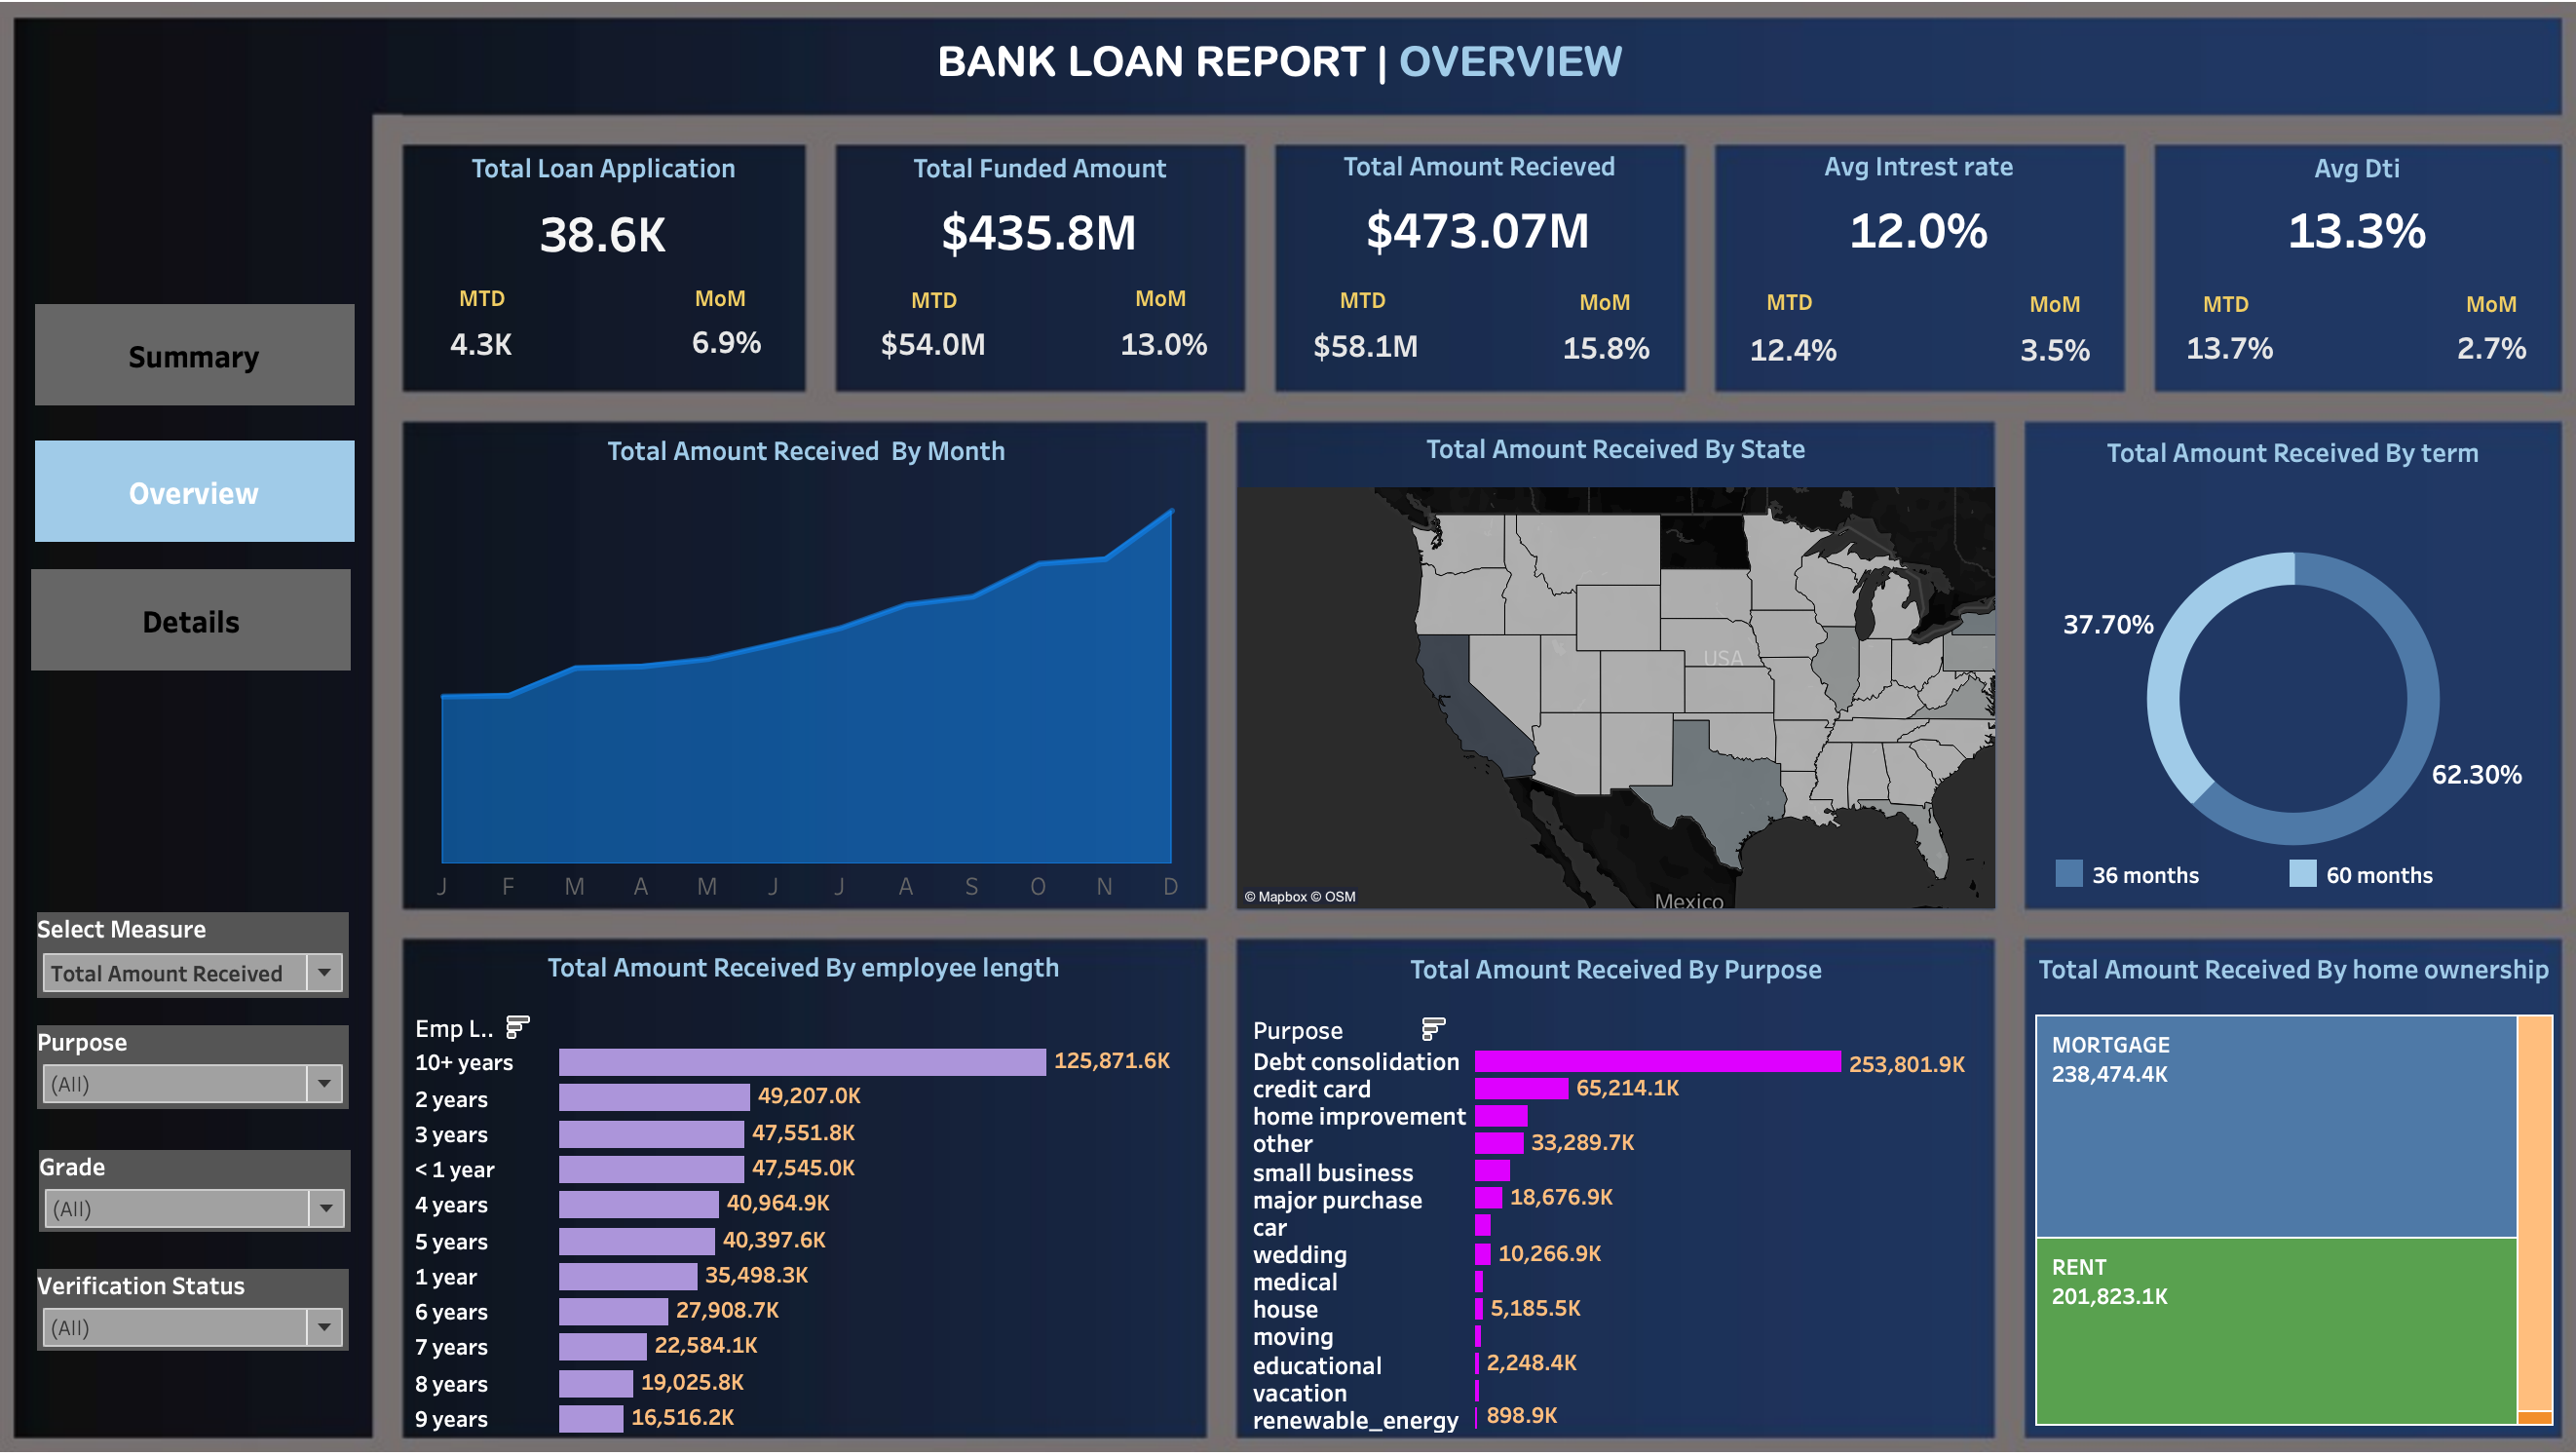

The page's visual inventory and layout, read from the dashboard file:
{"tool":"tableau","page":{"name":"OVERVIEW","canvas":[1366,768],"ordinal":1},"visuals":[{"type":"image","param":"Image/Tableau Background 2.jpg","box":[8,8,1350,752]},{"type":"text","box":[492,21,374,43]},{"type":"worksheet","title":"Total Amount Recieved","mark":"Automatic","box":[677,83,209,59]},{"type":"worksheet","title":"Avg Intrest rate","mark":"Automatic","box":[903,83,208,58]},{"type":"worksheet","title":"Total Loan Application","mark":"Automatic","box":[229,84,206,60]},{"type":"worksheet","title":"Total Funded Amount","mark":"Automatic","box":[453,84,206,59]},{"type":"worksheet","title":"Avg Dti","mark":"Automatic","box":[1128,84,208,57]},{"type":"text","box":[255,149,33,30]},{"type":"text","box":[376,149,33,30]},{"type":"text","box":[602,149,33,30]},{"type":"text","box":[487,150,33,30]},{"type":"text","box":[707,150,33,30]},{"type":"text","box":[830,151,33,30]},{"type":"text","box":[926,151,33,30]},{"type":"text","box":[1061,152,33,30]},{"type":"text","box":[1150,152,33,30]},{"type":"text","box":[1285,152,33,30]},{"type":"worksheet","title":"MTD Toatal Funded Amount","mark":"Automatic","box":[460,158,84,61]},{"type":"worksheet","title":"MoM Total Funded Amount","mark":"Automatic","box":[581,166,77,43]},{"type":"worksheet","title":"MTD Avg Dti","mark":"Automatic","box":[1135,166,64,47]},{"type":"dashboard-object","box":[40,167,164,52]},{"type":"worksheet","title":"MTD Toatal Loan Application","mark":"Automatic","box":[242,167,54,41]},{"type":"worksheet","title":"MoM Avg Dti","mark":"Automatic","box":[1262,167,79,45]},{"type":"worksheet","title":"MoM Loan Applications","mark":"Automatic","box":[373,168,45,38]},{"type":"worksheet","title":"MTD Toatal Amount Received","mark":"Automatic","box":[684,169,79,40]},{"type":"worksheet","title":"MoM Avg int rate","mark":"Automatic","box":[1044,169,67,43]},{"type":"worksheet","title":"MoM Total Amount Received","mark":"Automatic","box":[816,170,61,40]},{"type":"worksheet","title":"MTD Avg Intrest rate","mark":"Automatic","box":[916,171,53,40]},{"type":"worksheet","title":"state","mark":"Multipolygon","box":[657,228,389,249]},{"type":"worksheet","title":"Month","mark":"Area","rows":["Calculation_6651113029871697920","Calculation_6651113029871697920"],"cols":["issue_date"],"box":[232,229,408,246]},{"type":"worksheet","title":"Sheet 29","mark":"Pie","rows":["Calculation_6651113029888741384","Calculation_6651113029888741384"],"box":[1064,230,270,246]},{"type":"dashboard-object","box":[40,237,164,52]},{"type":"dashboard-object","box":[38,303,164,52]},{"type":"legend","title":"Sheet 29","param":"[federated.08fjjhc0jtqjg11e9bsvi03qdhfz].[none:term:nk]","box":[1074,449,247,23]},{"type":"parameter","param":"[Parameters].[Parameter 1]","box":[41,479,160,44]},{"type":"worksheet","title":"employee length","mark":"Automatic","rows":["emp_length"],"cols":["Calculation_6651113029871697920"],"box":[229,494,411,254]},{"type":"worksheet","title":"purpose ","mark":"Automatic","rows":["purpose"],"cols":["Calculation_6651113029871697920"],"box":[659,495,385,251]},{"type":"worksheet","title":"home ownership","mark":"Automatic","box":[1063,495,273,251]},{"type":"filter","title":"Avg Dti","param":"[federated.08fjjhc0jtqjg11e9bsvi03qdhfz].[none:purpose:nk]","box":[41,537,160,43]},{"type":"filter","title":"Avg Dti","param":"[federated.08fjjhc0jtqjg11e9bsvi03qdhfz].[none:grade:nk]","box":[42,601,160,42]},{"type":"filter","title":"Avg Dti","param":"[federated.08fjjhc0jtqjg11e9bsvi03qdhfz].[none:verification_status:nk]","box":[41,662,160,42]}]}

Visuals, with their boxes in screenshot pixels (x1, y1, x2, y2), scaled from the page's 1366x768 canvas onto the 2576x1456 screenshot:
image: 15, 16, 2561, 1440
text: 928, 40, 1633, 121
"Total Amount Recieved" worksheet: 1276, 157, 1671, 269
"Avg Intrest rate" worksheet: 1703, 157, 2095, 267
"Total Loan Application" worksheet: 432, 159, 820, 273
"Total Funded Amount" worksheet: 854, 159, 1243, 271
"Avg Dti" worksheet: 2127, 159, 2519, 267
text: 481, 283, 543, 339
text: 709, 283, 772, 339
text: 1135, 283, 1197, 339
text: 919, 285, 981, 341
text: 1333, 285, 1395, 341
text: 1566, 287, 1627, 343
text: 1746, 287, 1808, 343
text: 2001, 288, 2064, 345
text: 2169, 288, 2231, 345
text: 2423, 288, 2485, 345
"MTD Toatal Funded Amount" worksheet: 867, 299, 1026, 415
"MoM Total Funded Amount" worksheet: 1096, 315, 1241, 397
"MTD Avg Dti" worksheet: 2140, 315, 2261, 403
dashboard-object: 75, 317, 385, 415
"MTD Toatal Loan Application" worksheet: 456, 317, 558, 395
"MoM Avg Dti" worksheet: 2380, 317, 2529, 402
"MoM Loan Applications" worksheet: 703, 319, 788, 391
"MTD Toatal Amount Received" worksheet: 1290, 321, 1439, 397
"MoM Avg int rate" worksheet: 1969, 321, 2095, 402
"MoM Total Amount Received" worksheet: 1538, 323, 1654, 399
"MTD Avg Intrest rate" worksheet: 1727, 325, 1828, 400
"state" worksheet (Multipolygon marks): 1239, 433, 1973, 904
"Month" worksheet (Area marks): 437, 434, 1207, 900
"Sheet 29" worksheet (Pie marks): 2006, 436, 2516, 902
dashboard-object: 75, 449, 385, 548
dashboard-object: 72, 574, 381, 673
"Sheet 29" legend: 2026, 851, 2491, 895
parameter: 77, 908, 379, 991
"employee length" worksheet: 432, 937, 1207, 1418
"purpose " worksheet: 1243, 939, 1969, 1414
"home ownership" worksheet: 2005, 939, 2519, 1414
"Avg Dti" filter: 77, 1018, 379, 1099
"Avg Dti" filter: 79, 1139, 381, 1219
"Avg Dti" filter: 77, 1255, 379, 1335
